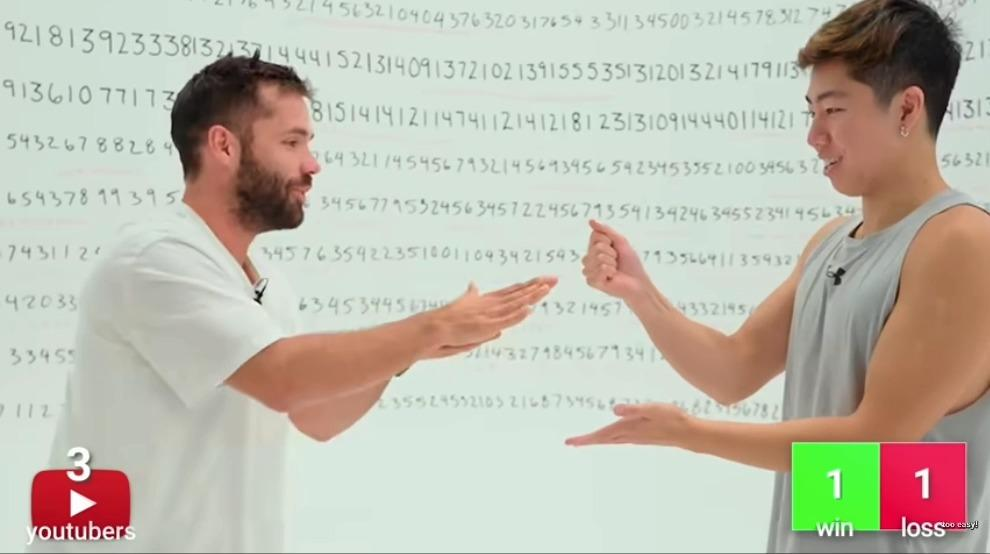Paper: (433, 272, 559, 342)
Rock: (582, 215, 645, 292)
